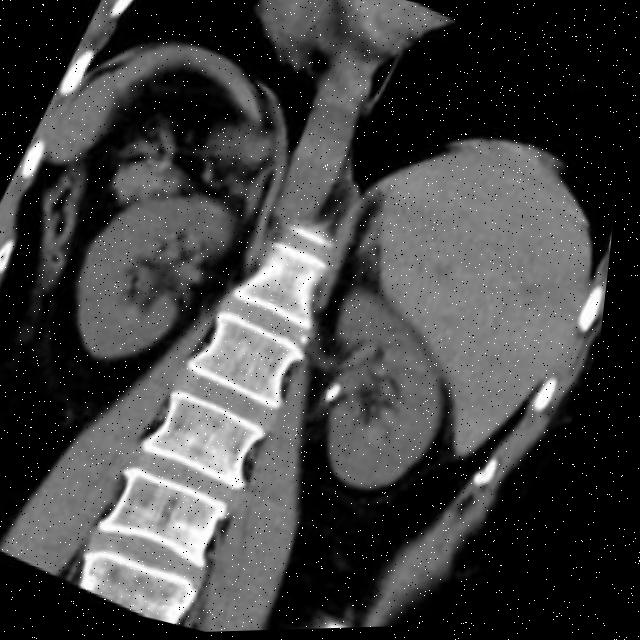Tas_Var: (329, 379, 353, 410)
